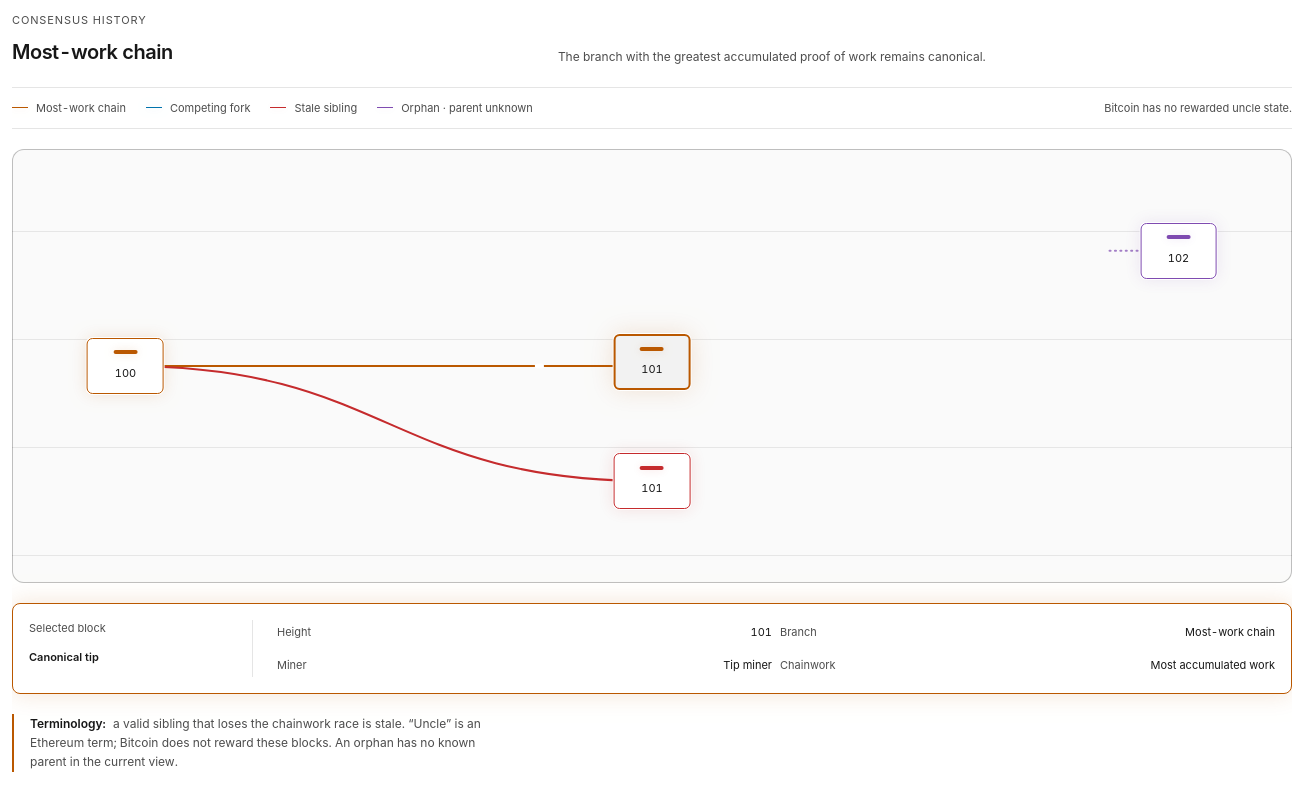
Test: Bitcoin UI components › illustrates the most-work chain and keeps block metadata inspectable
Expected: the text "Bitcoin has no rewarded uncle state." is shown, [1104,100,1292,116]
Expected: the button named "Orphan · parent unknown, block 102" is shown, [1140,223,1217,279]
Hover over the button named "Stale sibling, block 101, mined by Stale miner" at (652, 481), box [614,453,690,509]
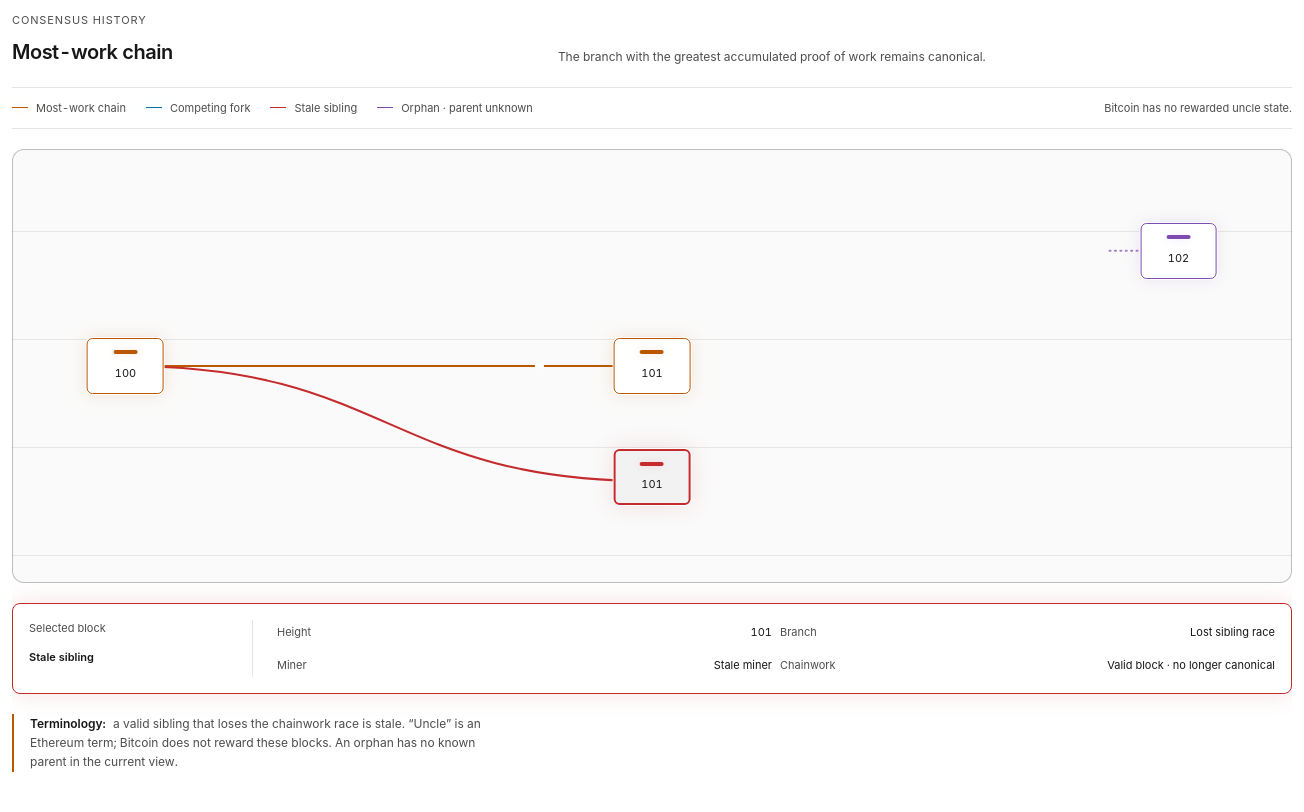
Expected: the text "Selected block" shows "Stale sibling", [29,650,94,664]
Expected: the text "Selected block" shows "Lost sibling race", [1190,625,1275,639]
Expected: the text "Selected block" shows "Valid block · no longer canonical", [1107,658,1275,672]
Click the button named "Stale sibling, block 101, mined by Stale miner" at (652, 477), box [614,449,690,505]
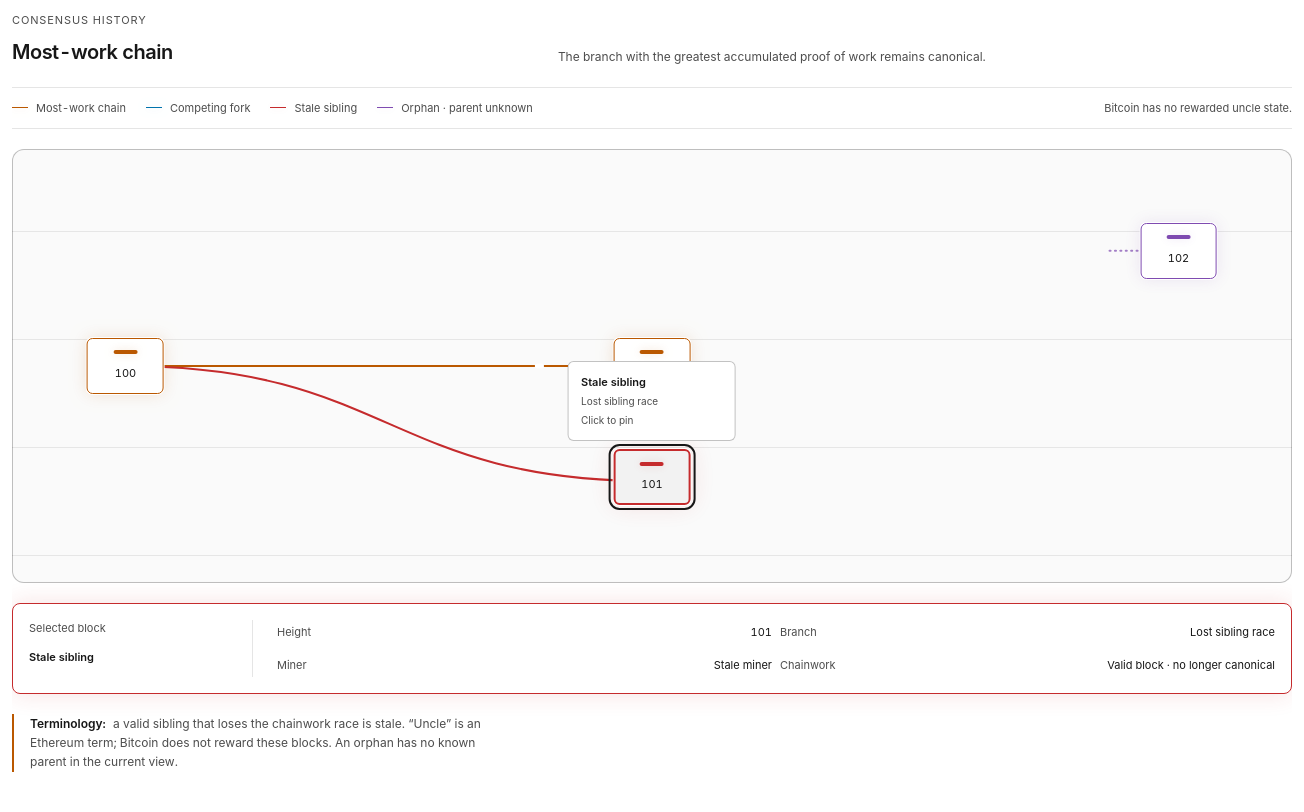
Move the pointer off the button named "Stale sibling, block 101, mined by Stale miner", box [614,449,690,505]
Expected: the text "Selected block" shows "Stale miner", [714,658,772,672]
Press Escape
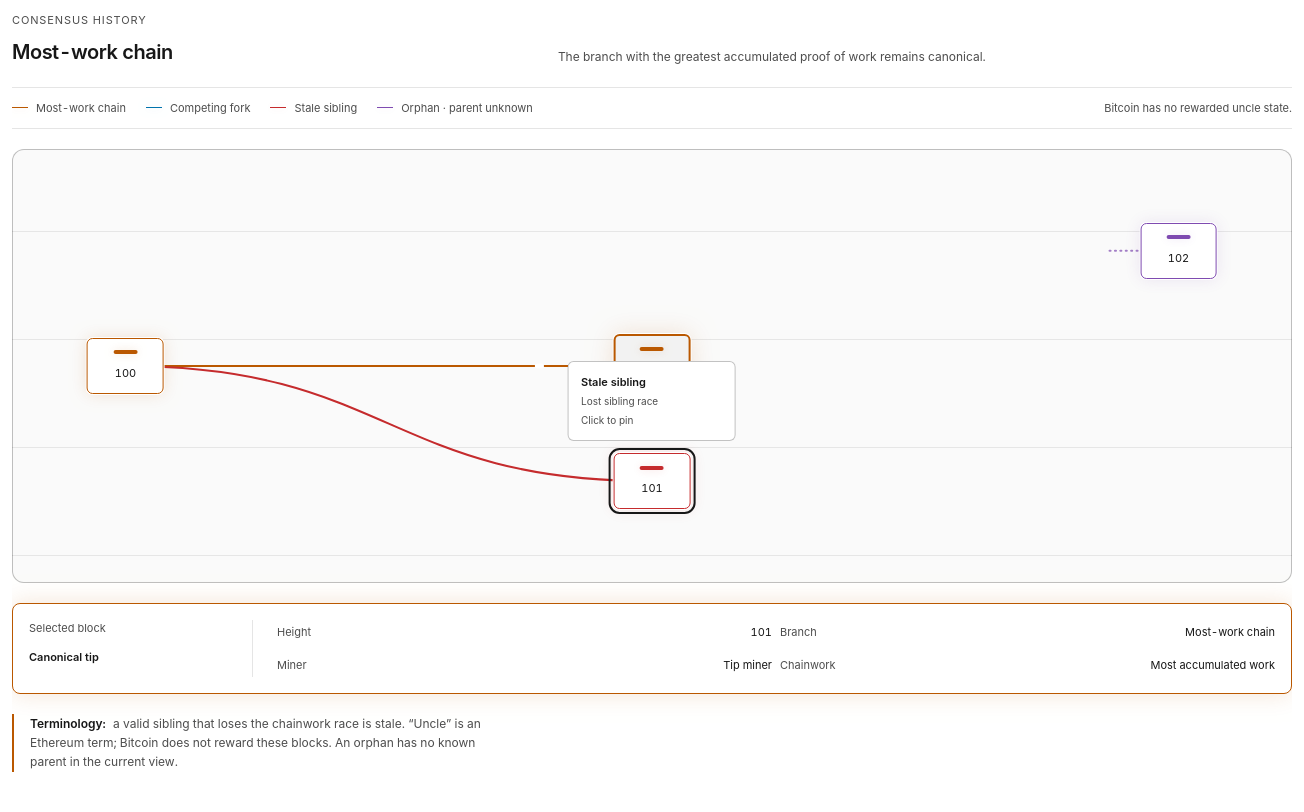
Expected: the text "Selected block" shows "Canonical tip", [29,650,99,664]
